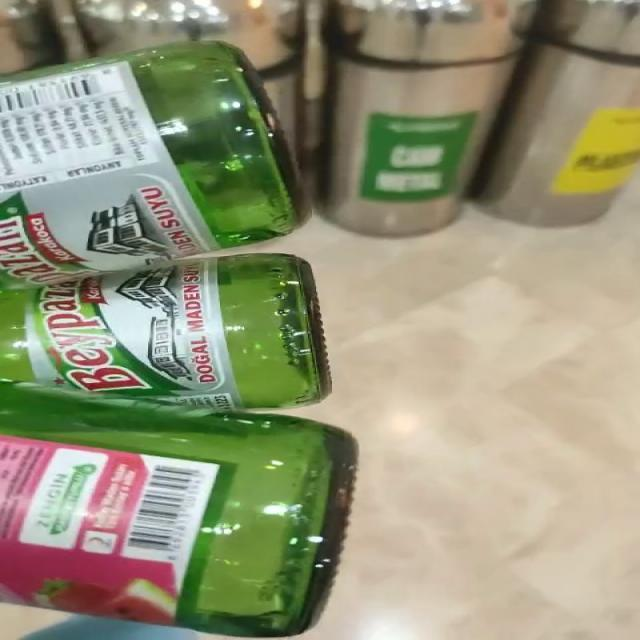Glass: (0, 42, 357, 638)
